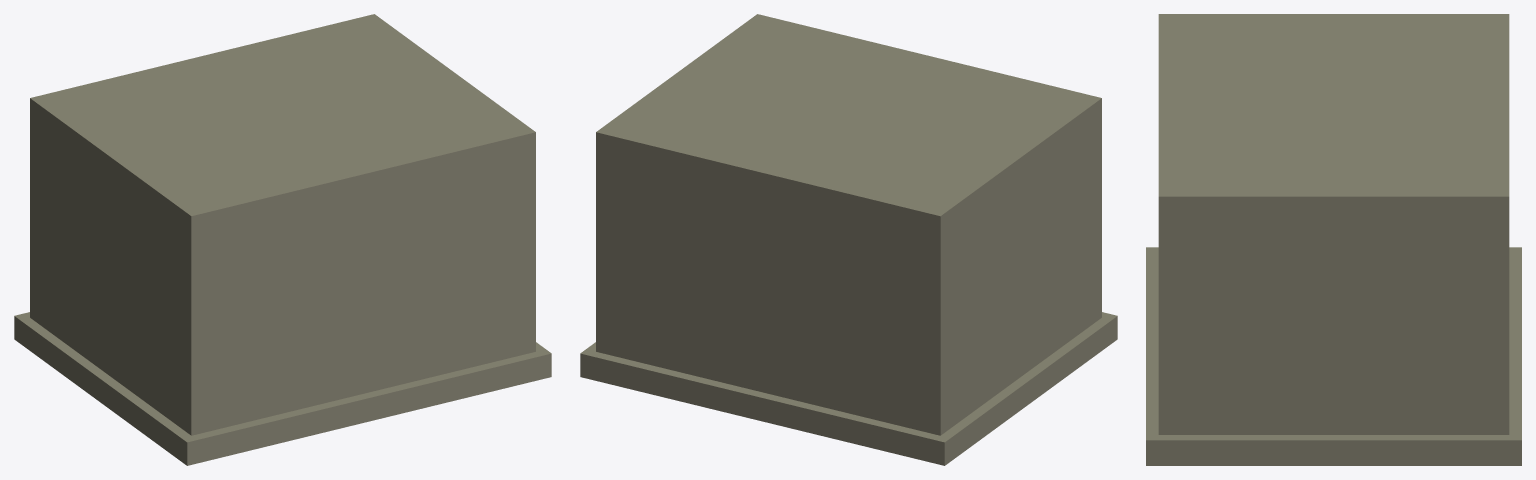
Rendered from ruin-arcade-c.far-facades-v1.lod2.glb.
The picture shows the model from 3 angles, left to right: view 1: azimuth 30°, elevation 25°; view 2: azimuth 150°, elevation 25°; view 3: azimuth 270°, elevation 25°; orthographic projection. The views are drawn at different scales.
Parts seen in each view (by area): view 1: ruin-arcade-c; view 2: ruin-arcade-c; view 3: ruin-arcade-c.
Part boxes in pixels (left/top/right/bottom): ruin-arcade-c: left=14, top=14, right=551, bottom=465; ruin-arcade-c: left=580, top=14, right=1117, bottom=465; ruin-arcade-c: left=1146, top=14, right=1521, bottom=465.
Size of the model in its own units: 14.6 by 9.3 by 12.
